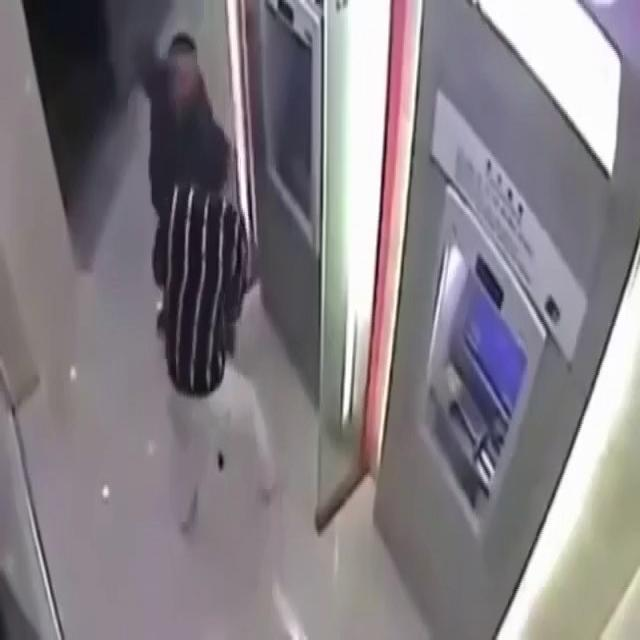fight: (135, 7, 280, 481), (136, 19, 276, 481)
